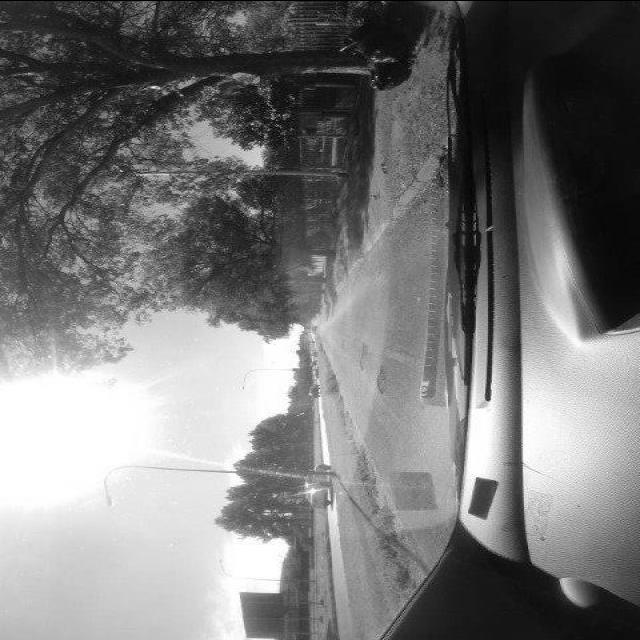lubang: (354, 342, 372, 372), (372, 362, 387, 395)
